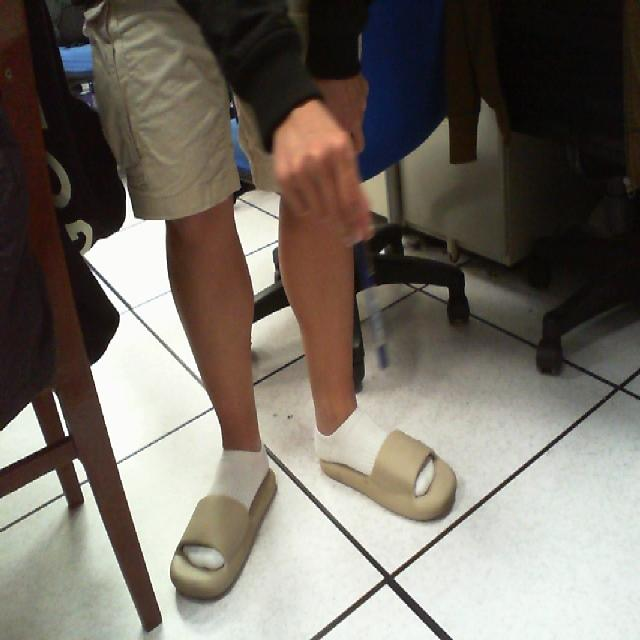Pen: (349, 196, 396, 376)
